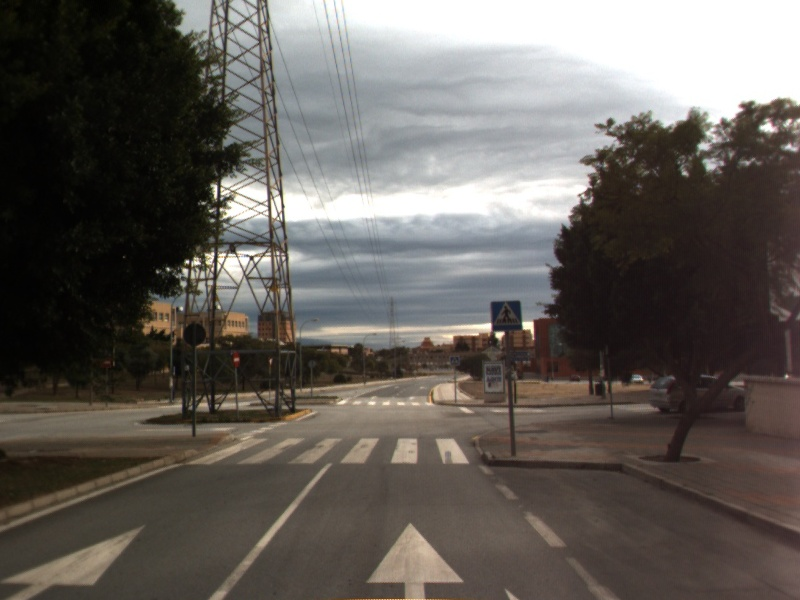STRAIGHT: (1, 520, 150, 600), (361, 518, 468, 600)
